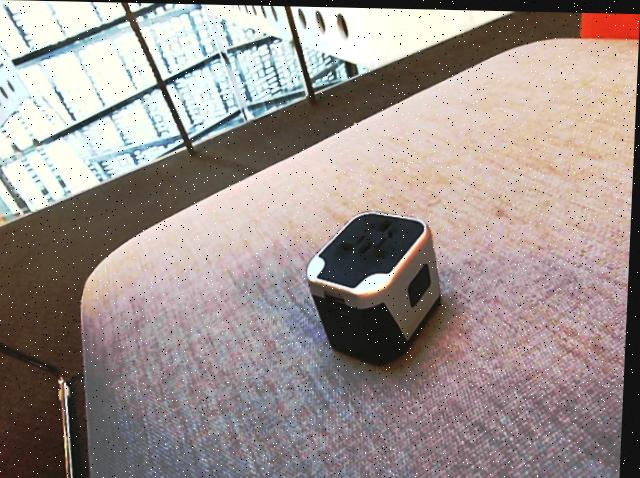adapter: (305, 206, 446, 363)
